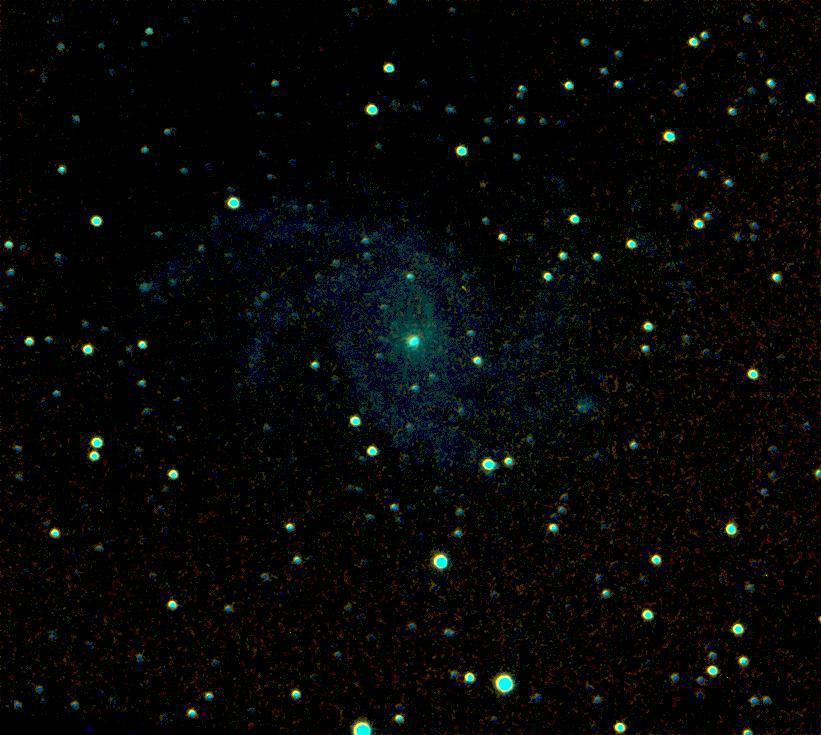star: (467, 170, 497, 200)
